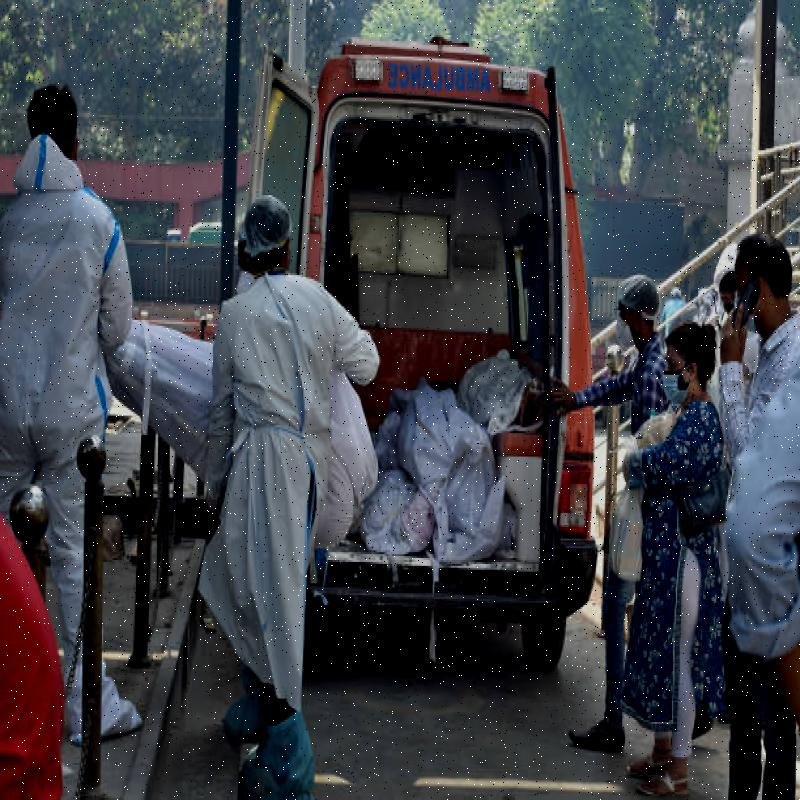ambulance: (353, 66, 600, 654)
